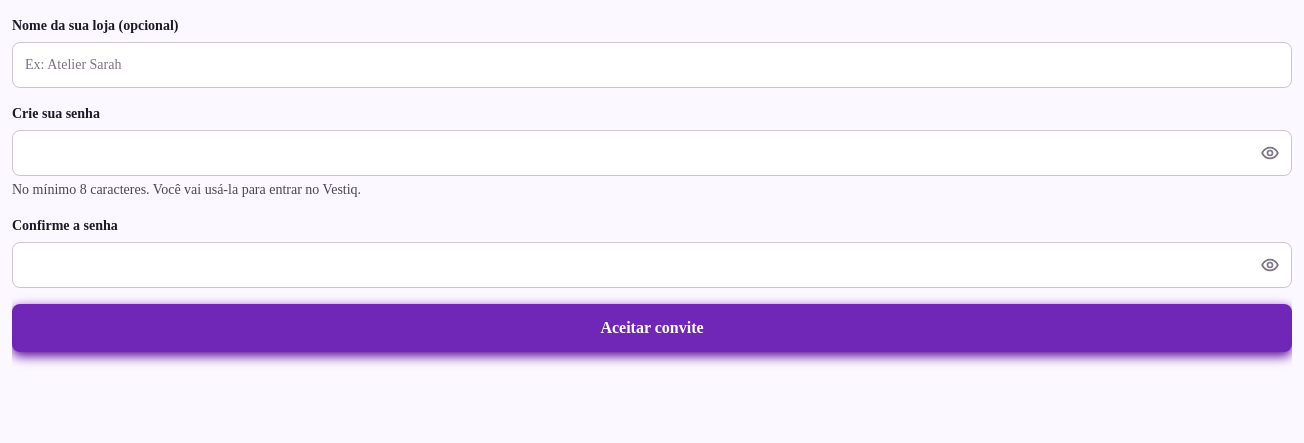
Scenario: AcceptInviteForm (TC-NET-15) › asks an invited account for its password and posts it
Type "senha-forte-1" into the password field labelled "Crie sua senha" at (652, 153), box [12, 130, 1292, 176]
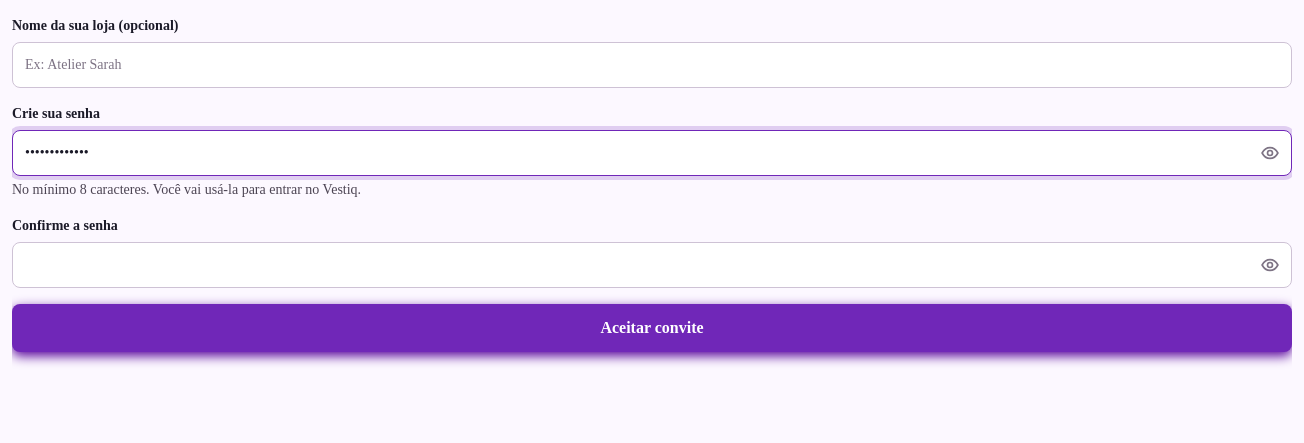
Type "senha-forte-1" into the password field labelled "Confirme a senha" at (652, 265), box [12, 242, 1292, 288]
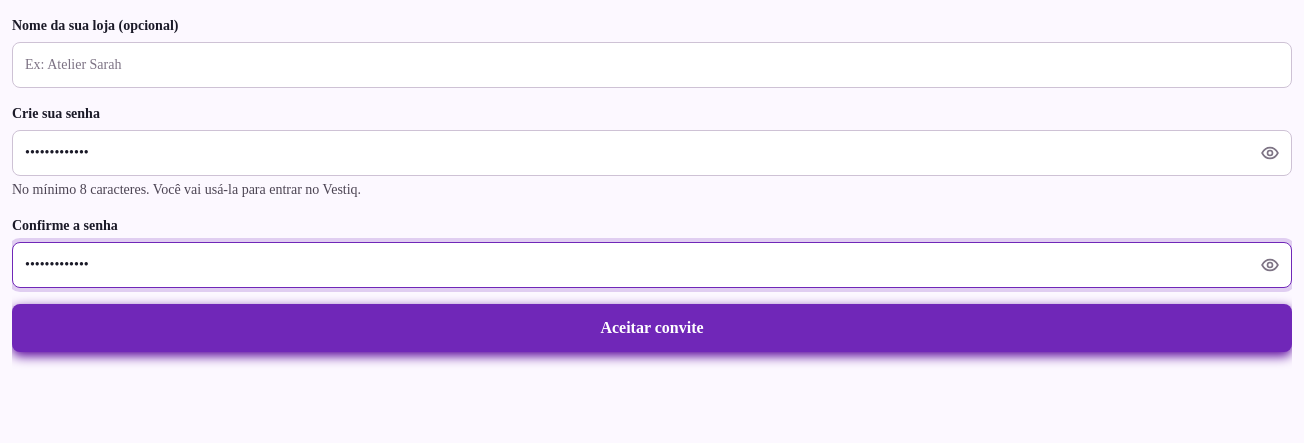
Click the button "Aceitar convite" at (652, 328), box [12, 304, 1292, 352]
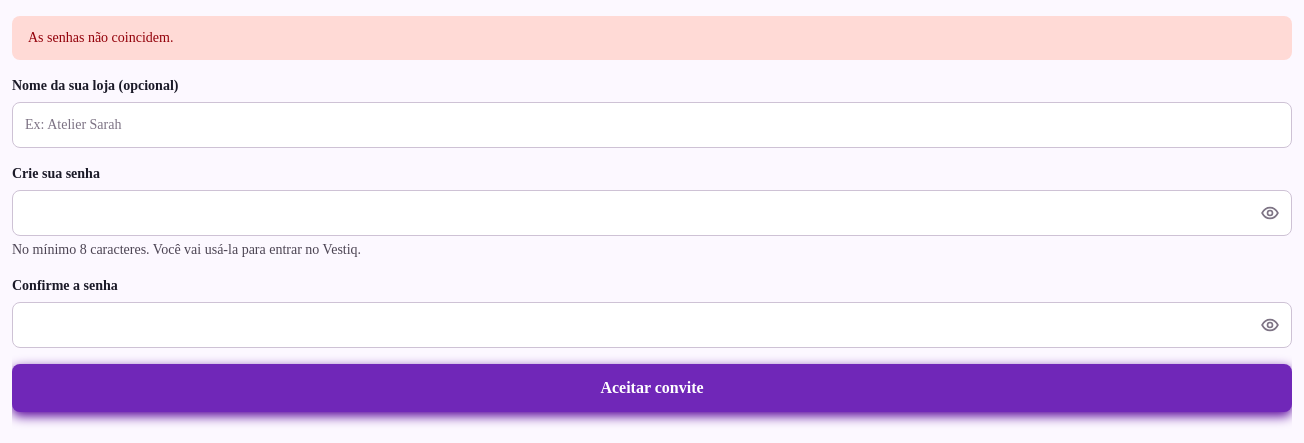
Check: the message reads "As senhas não coincidem.", box [28, 30, 173, 45]
